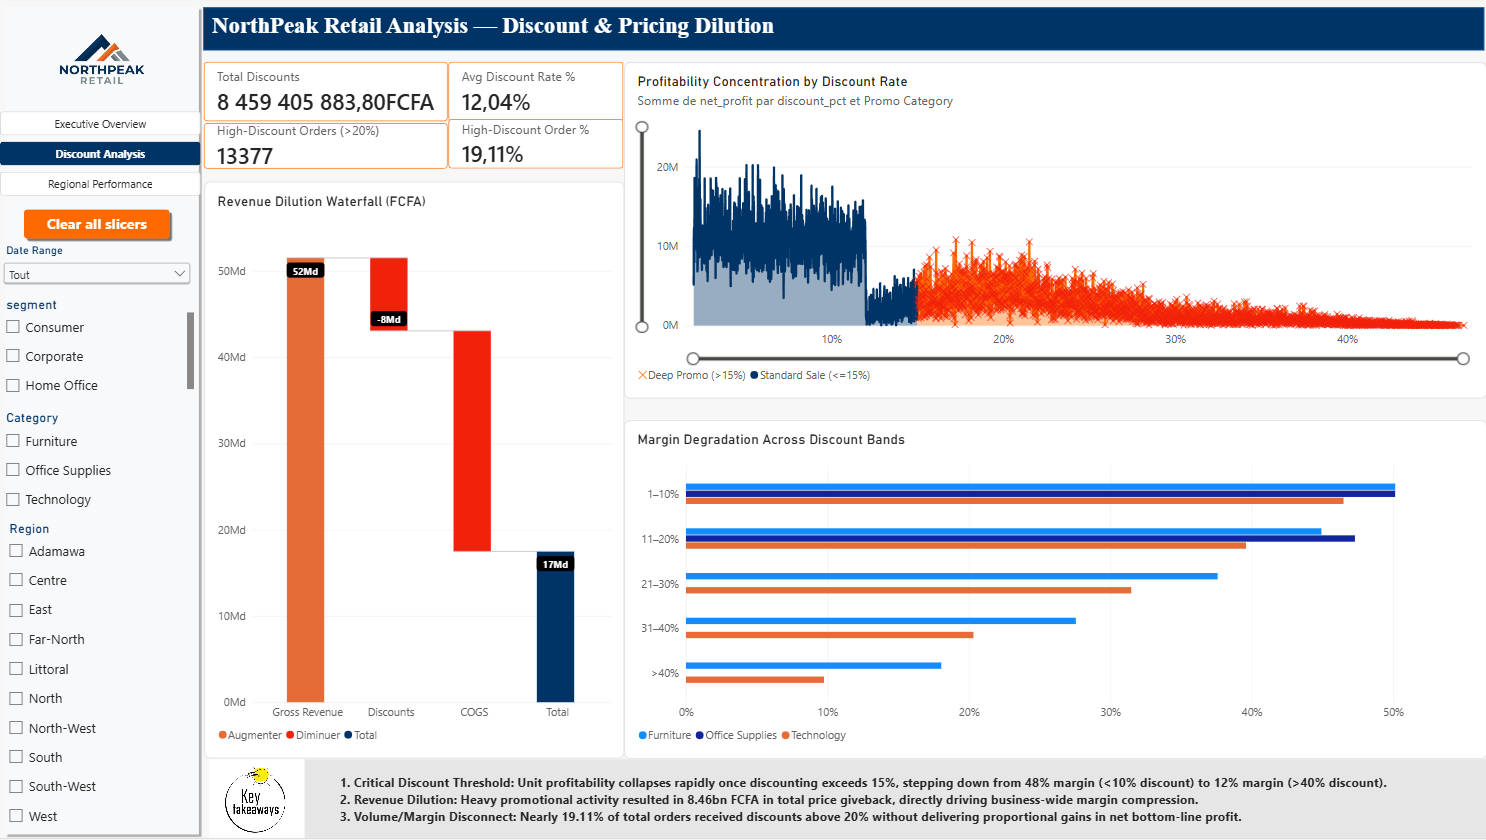

The dashboard page shown, as its layout file describes it:
{"tool":"powerbi","page":{"name":"Discount Analysis","canvas":[1920,1080],"ordinal":1},"visuals":[{"type":"shape","box":[262.3,6.6,1654.1,55.7],"z":0},{"type":"textbox","title":"NorthPeak Retail Analysis — Discount & Pricing Dilution","box":[273.8,14.8,750.8,37.7],"z":1000},{"type":"shape","box":[0,0,262.7,1080.6],"z":2000},{"type":"actionButton","box":[25.3,262,200,50],"z":3000},{"type":"slicer","fields":{"Values":["Dim_Product.category"]},"box":[0,528,171.6,142.3],"z":4000},{"type":"slicer","fields":{"Values":["Dim_Geography.region"]},"box":[4,670.3,251.4,409.7],"z":5000},{"type":"slicer","fields":{"Values":["Dim_Date.full_date"]},"box":[0,312.6,250.6,58],"z":6000},{"type":"cardVisual","fields":{"Data":["_Measures.Total Discounts"]},"box":[262.3,77,316.4,78.7],"z":7000},{"type":"cardVisual","fields":{"Data":["_Measures.Avg Discount Rate %"]},"box":[578.7,77,227.9,78.7],"z":8000},{"type":"cardVisual","fields":{"Data":["_Measures.Loss-Making Orders"]},"box":[262.3,155.7,316.4,60.7],"z":9000},{"type":"cardVisual","fields":{"Data":["_Measures.Loss-Making Orders %"]},"box":[578.7,150.8,227.9,65.6],"z":10000},{"type":"areaChart","title":"Profitability Concentration by Discount Rate","fields":{"Category":["Fact_Sales.discount_pct"],"Series":["Fact_Sales.Promo Category"],"Y":["Sum(Fact_Sales.net_profit)"]},"box":[806,77.1,1114.6,434.9],"z":11000},{"type":"clusteredBarChart","title":"Margin Degradation Across Discount Bands","fields":{"Category":["Fact_Sales.Discount Band"],"Series":["Dim_Product.category"],"Y":["_Measures.Profit Margin %"]},"box":[806,540,1114.6,437.6],"z":12000},{"type":"waterfallChart","title":"Revenue Dilution Waterfall (FCFA)","fields":{"Category":["Waterfall_Structure.Metric"],"Y":["Waterfall_Structure.Waterfall Value"]},"box":[263.3,231.4,542.7,746.2],"z":13000},{"type":"slicer","fields":{"Values":["Dim_Customer.segment"]},"box":[0,381.7,249.9,130.3],"z":14000},{"type":"pageNavigator","box":[0,141,259.4,111.7],"z":15000},{"type":"image","box":[4,6.7,255.4,134.3],"z":16000},{"type":"image","box":[270,977.6,123.7,102.4],"z":17000},{"type":"shape","box":[393.1,977.6,1526.9,102.4],"z":18000},{"type":"textbox","box":[438.9,994.9,1421.8,73.2],"z":19000}]}

Visuals, with their boxes on the page's 1920x1080 design canvas (x1, y1, x2, y2). These are canvas units, not pixel positions in the 1486x840 screenshot, which may show the page scaled, cropped or inside an application window:
shape: bbox=[262, 7, 1916, 62]
"NorthPeak Retail Analysis — Discount & Pricing Dilution" textbox: bbox=[274, 15, 1025, 52]
shape: bbox=[0, 0, 263, 1081]
actionButton: bbox=[25, 262, 225, 312]
slicer - Dim_Product.category: bbox=[0, 528, 172, 670]
slicer - Dim_Geography.region: bbox=[4, 670, 255, 1080]
slicer - Dim_Date.full_date: bbox=[0, 313, 251, 371]
cardVisual - _Measures.Total Discounts: bbox=[262, 77, 579, 156]
cardVisual - _Measures.Avg Discount Rate %: bbox=[579, 77, 807, 156]
cardVisual - _Measures.Loss-Making Orders: bbox=[262, 156, 579, 216]
cardVisual - _Measures.Loss-Making Orders %: bbox=[579, 151, 807, 216]
"Profitability Concentration by Discount Rate" areaChart: bbox=[806, 77, 1921, 512]
"Margin Degradation Across Discount Bands" clusteredBarChart: bbox=[806, 540, 1921, 978]
"Revenue Dilution Waterfall (FCFA)" waterfallChart: bbox=[263, 231, 806, 978]
slicer - Dim_Customer.segment: bbox=[0, 382, 250, 512]
pageNavigator: bbox=[0, 141, 259, 253]
image: bbox=[4, 7, 259, 141]
image: bbox=[270, 978, 394, 1080]
shape: bbox=[393, 978, 1920, 1080]
textbox: bbox=[439, 995, 1861, 1068]
